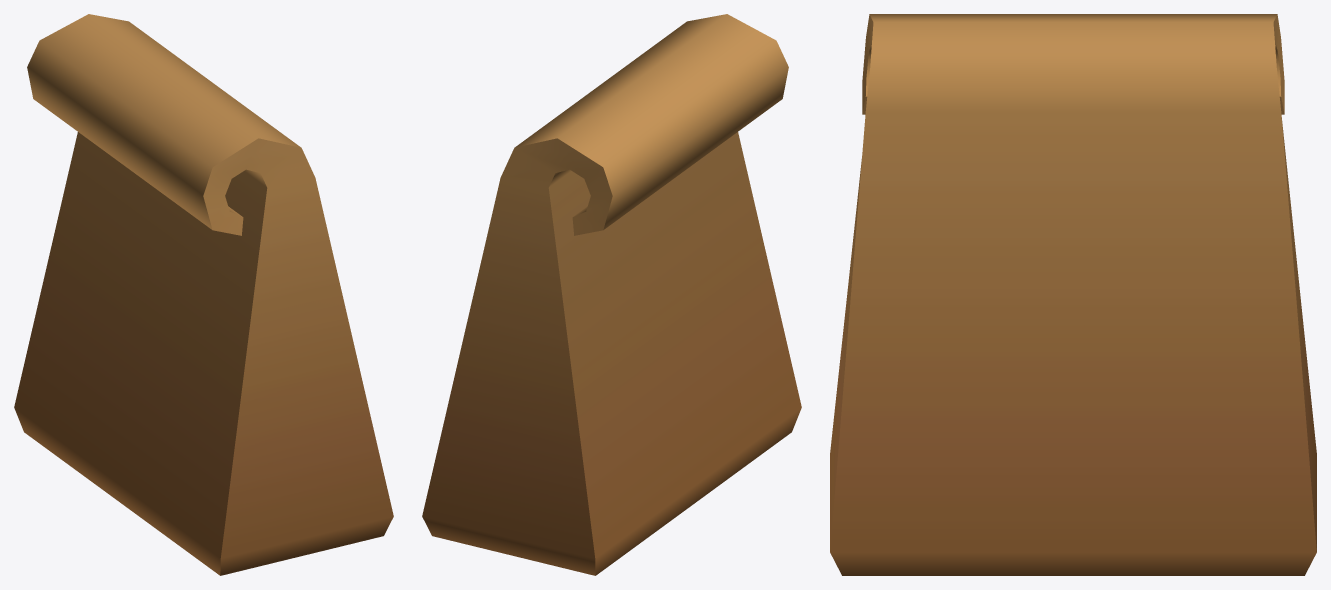
File: BagFood_1_C.fbx
3 views of the same model, side by side, from view 1: azimuth 30°, elevation 25°; view 2: azimuth 150°, elevation 25°; view 3: azimuth 270°, elevation 25° (orthographic). The views are drawn at different scales.
Parts seen in each view (by area): view 1: BagFood_1_C; view 2: BagFood_1_C; view 3: BagFood_1_C.
Boxes of the visible parts, box(x1,y1,x2,y2) form: BagFood_1_C: box(14, 14, 393, 575); BagFood_1_C: box(422, 14, 801, 575); BagFood_1_C: box(830, 14, 1316, 575).
Size of the model in its own units: 15.18 by 35.13 by 30.98.
